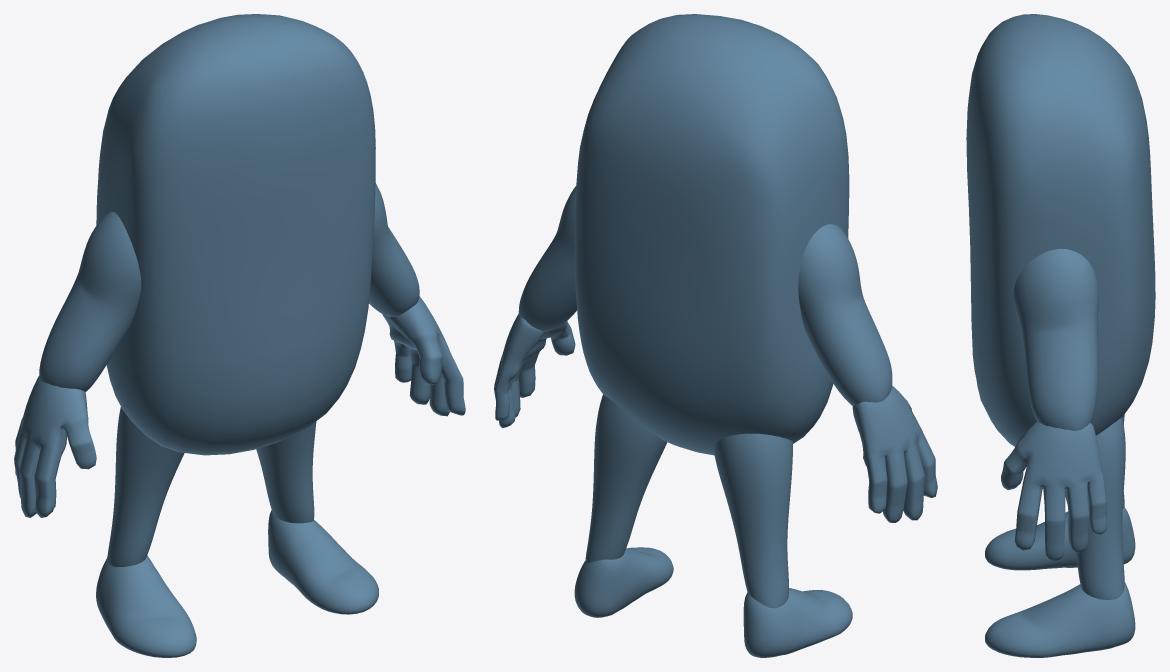
Rendered from Bean.fbx.
3 views of the same model, side by side, from view 1: azimuth 30°, elevation 25°; view 2: azimuth 150°, elevation 25°; view 3: azimuth 270°, elevation 25° (orthographic). The views are drawn at different scales.
Parts seen in each view (by area): view 1: Stomach.002, Shoulder.001, Hand.005, Foot.002, Shin.002, Foot.003, Hand.001, Shin.003, Shoulder.002; view 2: Stomach.002, Shoulder.001, Shin.002, Shin.003, Hand.005, Foot.002, Foot.003, Shoulder.002, Hand.001; view 3: Stomach.002, Shoulder.002, Hand.001, Foot.003, Shin.003, Foot.002.
Part boxes in pixels (left/top/right/bottom): Stomach.002: left=96, top=14, right=375, bottom=455; Shoulder.001: left=39, top=211, right=141, bottom=391; Hand.005: left=14, top=376, right=96, bottom=517; Foot.002: left=96, top=555, right=196, bottom=657; Shin.002: left=107, top=407, right=184, bottom=566; Foot.003: left=268, top=510, right=378, bottom=614; Hand.001: left=382, top=296, right=465, bottom=416; Shin.003: left=256, top=421, right=316, bottom=523; Shoulder.002: left=369, top=183, right=419, bottom=316; Stomach.002: left=574, top=14, right=849, bottom=455; Shoulder.001: left=798, top=224, right=892, bottom=405; Shin.002: left=713, top=433, right=792, bottom=608; Shin.003: left=585, top=394, right=667, bottom=562; Hand.005: left=852, top=385, right=937, bottom=522; Foot.002: left=743, top=588, right=852, bottom=657; Foot.003: left=574, top=547, right=673, bottom=617; Shoulder.002: left=518, top=186, right=576, bottom=331; Hand.001: left=494, top=313, right=575, bottom=427; Stomach.002: left=966, top=14, right=1155, bottom=446; Shoulder.002: left=1013, top=249, right=1098, bottom=430; Hand.001: left=1001, top=421, right=1106, bottom=561; Foot.003: left=985, top=582, right=1135, bottom=657; Shin.003: left=1065, top=417, right=1125, bottom=599; Foot.002: left=985, top=507, right=1135, bottom=570.
Size of the model in its own units: 140 by 185 by 55.46.
